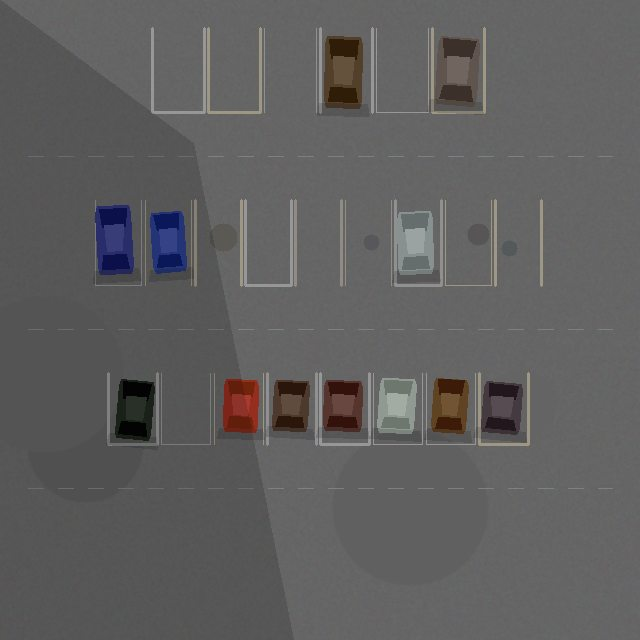space-empty: (152, 28, 204, 112), (208, 28, 260, 112), (264, 28, 316, 112), (376, 28, 428, 112), (195, 200, 241, 285), (245, 200, 291, 285), (295, 200, 341, 285), (345, 200, 391, 285), (445, 200, 491, 285), (495, 200, 541, 285), (161, 373, 210, 444)
space-occupied: (320, 28, 372, 112), (432, 28, 484, 112), (95, 200, 141, 285), (145, 200, 191, 285), (395, 200, 441, 285), (108, 373, 157, 444), (214, 373, 263, 444), (267, 373, 316, 444), (320, 373, 369, 444), (373, 373, 422, 444), (426, 373, 475, 444), (479, 373, 528, 444)
